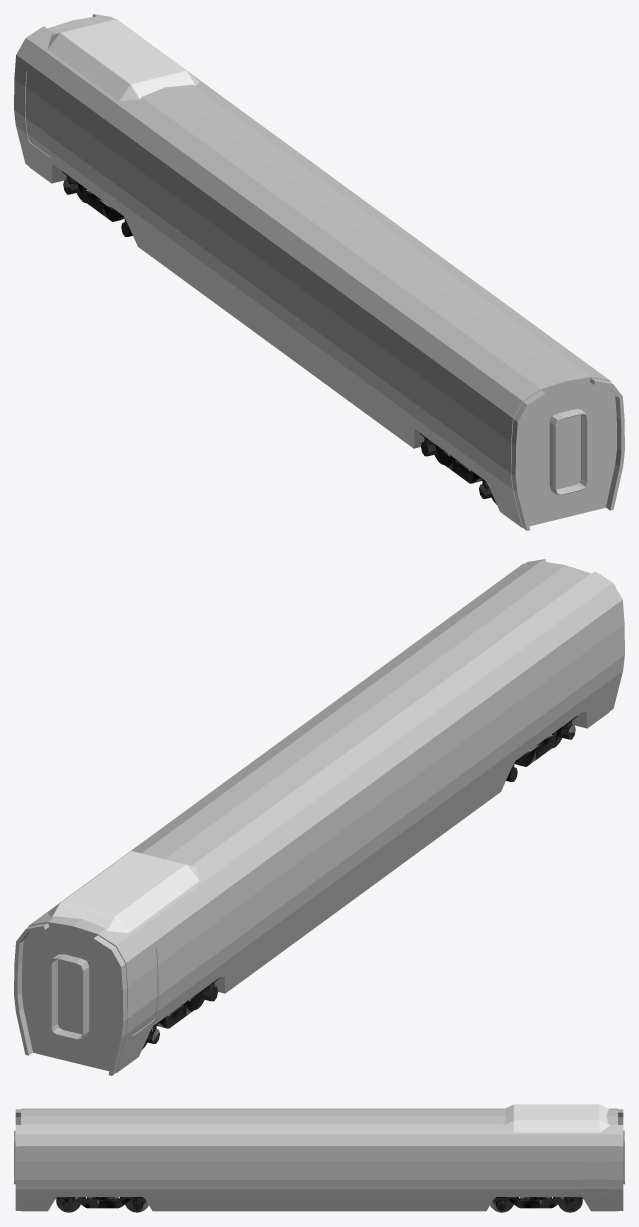
Rendered from crh1aaa4.obj.
3 views of the same model, one above another, from view 1: azimuth 30°, elevation 25°; view 2: azimuth 150°, elevation 25°; view 3: azimuth 270°, elevation 25° (orthographic). The views are drawn at different scales.
Visible parts, largest first — view 1: body, under, kt, lj, bogie; view 2: body, under, kt, lj, bogie; view 3: body, under, kt, bogie, lj.
Boxes of the visible parts, box(x1,y1,x2,y2) form: body: box(17, 16, 616, 503); under: box(23, 142, 611, 527); kt: box(48, 19, 199, 101); lj: box(14, 14, 624, 530); bogie: box(61, 171, 496, 504); body: box(22, 561, 621, 1048); under: box(27, 687, 615, 1072); kt: box(48, 851, 199, 932); lj: box(14, 559, 624, 1075); bogie: box(142, 716, 577, 1049); body: box(21, 1108, 617, 1196); under: box(21, 1197, 617, 1211); kt: box(503, 1104, 609, 1132); bogie: box(56, 1197, 582, 1212); lj: box(14, 1109, 624, 1210).
Size of the model in its own units: 32.33 by 42.61 by 256.
